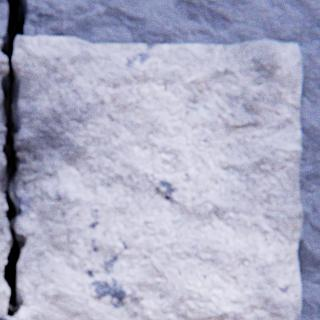broken_brick: (0, 37, 301, 319), (0, 54, 8, 104)
crack: (0, 0, 27, 317)
